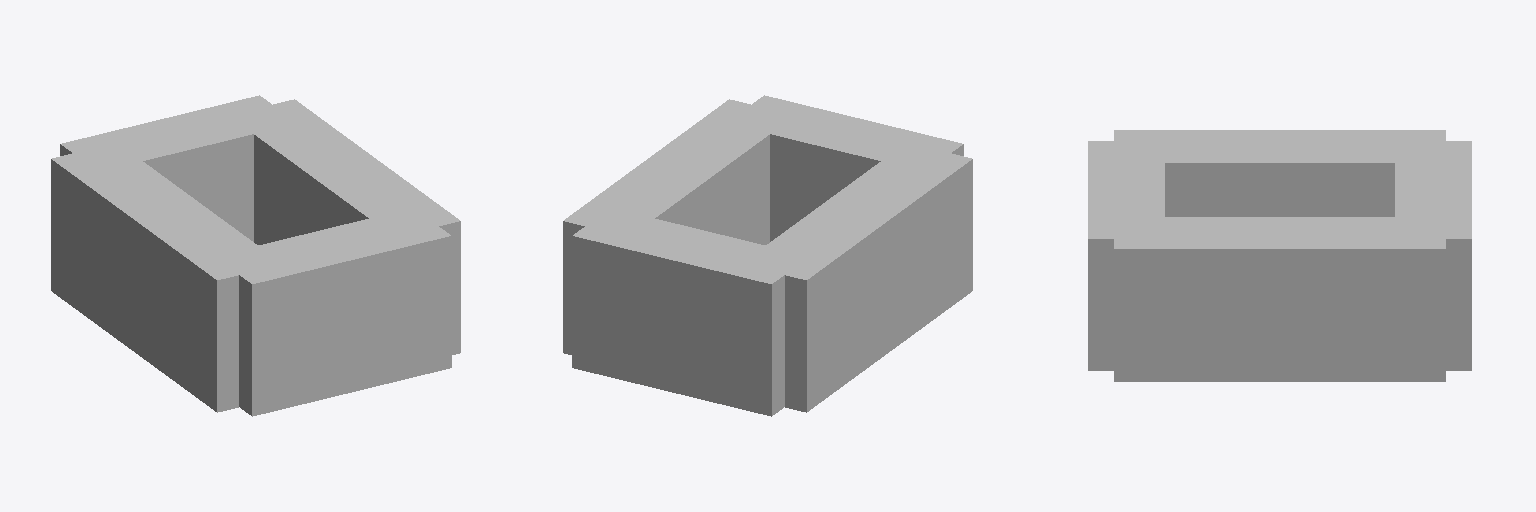
Rendered from num_0.obj.
3 views of the same model, side by side, from view 1: azimuth 30°, elevation 25°; view 2: azimuth 150°, elevation 25°; view 3: azimuth 270°, elevation 25° (orthographic).
Visible parts, largest first — view 1: Text; view 2: Text; view 3: Text.
Boxes of the visible parts, <box> form: Text: <box>51,95,460,416</box>; Text: <box>563,95,972,416</box>; Text: <box>1088,130,1471,381</box>.
Size of the model in its own units: 0.5789 by 0.3 by 0.7895.